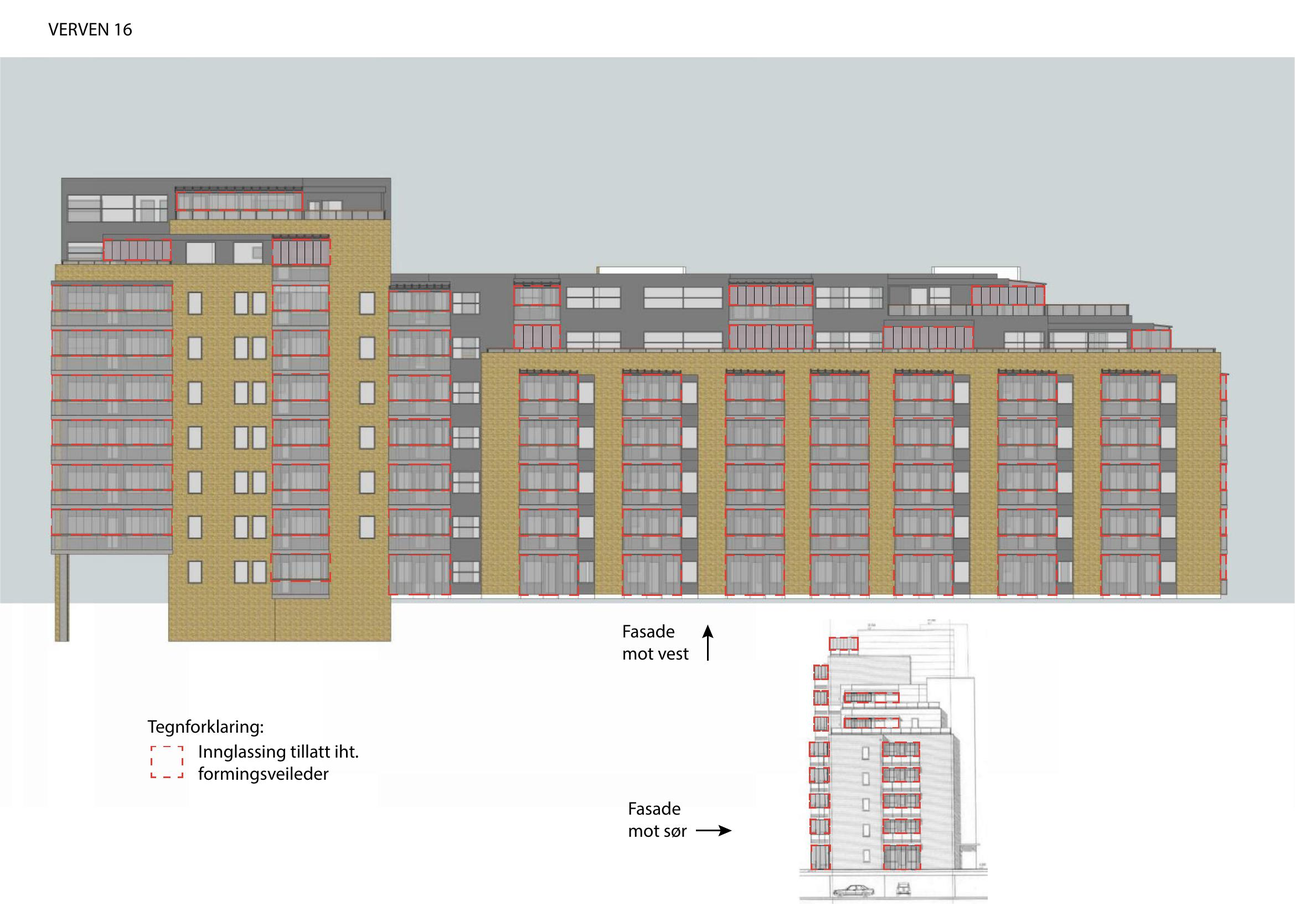fasade: (52, 177, 1228, 643), (807, 636, 976, 900)
